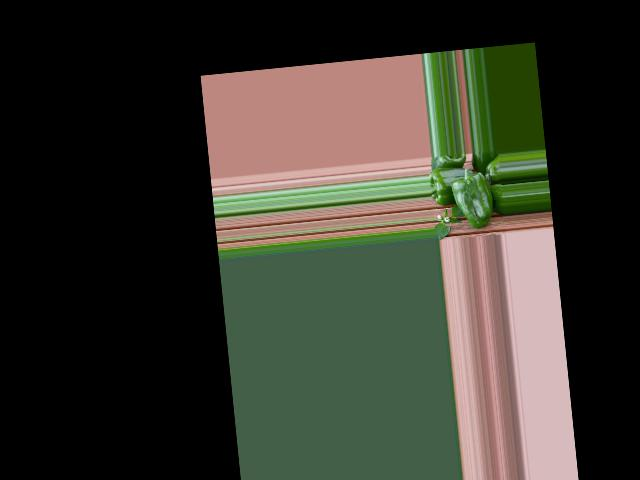bell_pepper: (481, 153, 502, 180)
